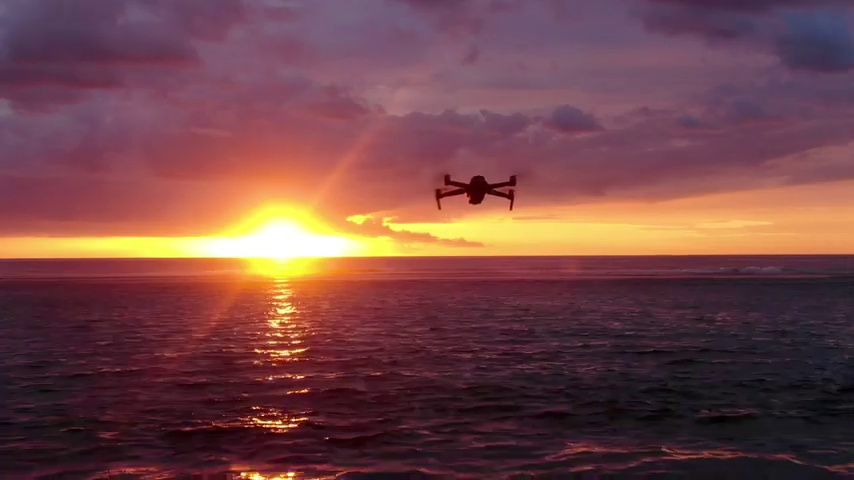drone: (434, 170, 517, 211)
